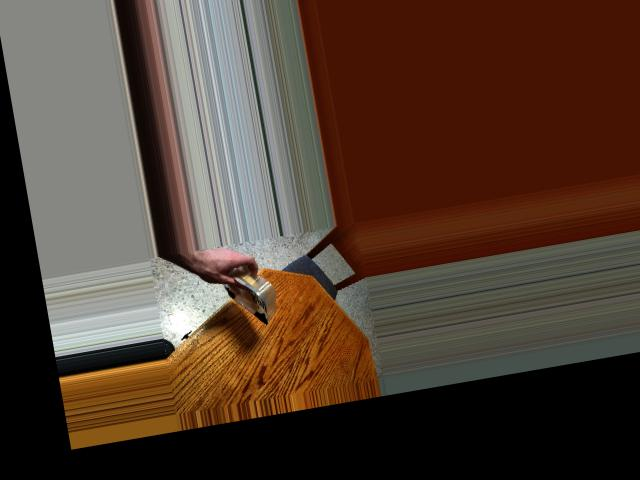cheese: (212, 256, 292, 324)
